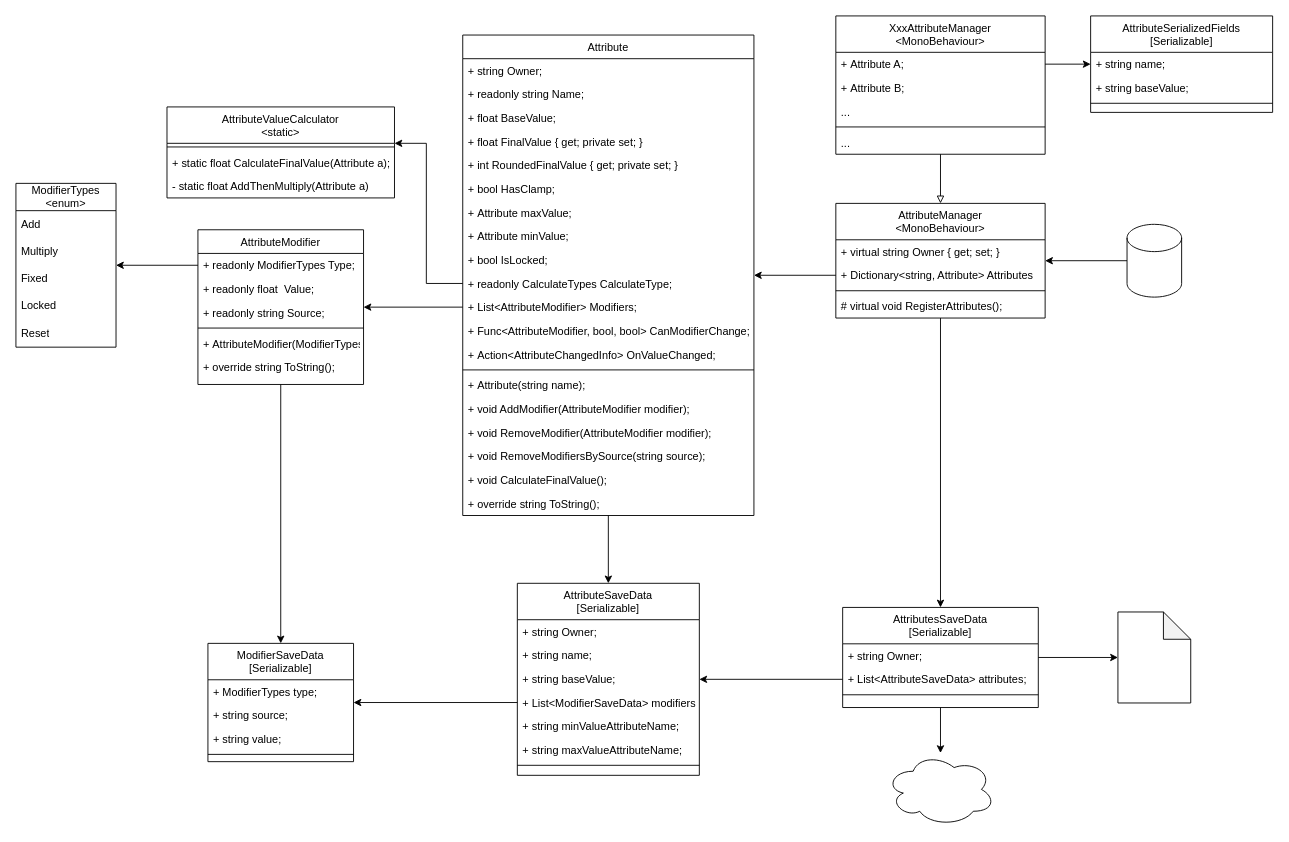
The diagram is 1289 pixels wide and 842 high, and some of its shapes have lost their labels. The centre of each missing label's shape, as x and y in pixels:
Attribute Config: (1154,260)
数据持久化 存档: (1154,657)
联机同步: (940,789)
